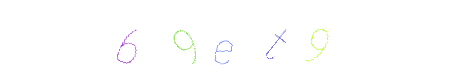6: (159, 0, 239, 80)
9: (161, 0, 241, 80), (209, 0, 289, 80)
E: (192, 0, 272, 80)
T: (208, 0, 288, 80)
